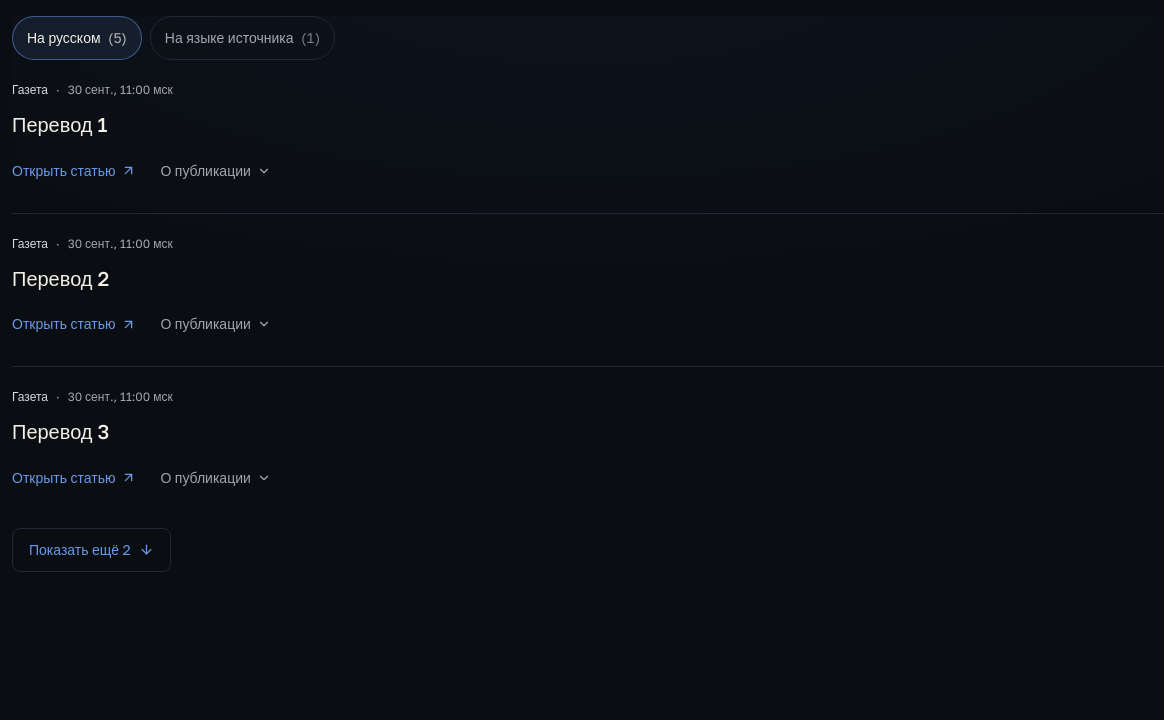
it: NewsReadingList › starts with Russian titles, switches language, and reveals remaining articles
Expected: the heading "Перевод 1" is shown, [12,112,107,136]
Expected: the text "Перевод 4" is not shown
Click the button "Показать ещё 2": (91, 550) [12,528,171,572]
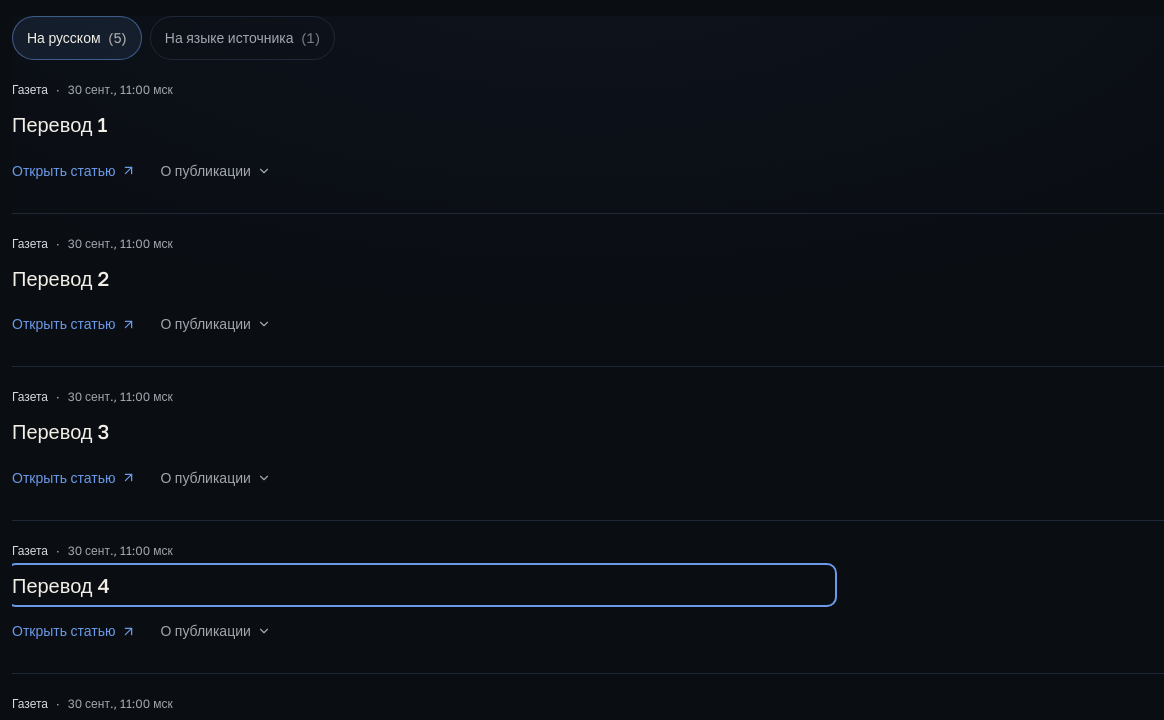
Expected: the button "Показать ещё" is gone
Click the button "На языке источника (1)": (243, 38) [150,16,335,60]
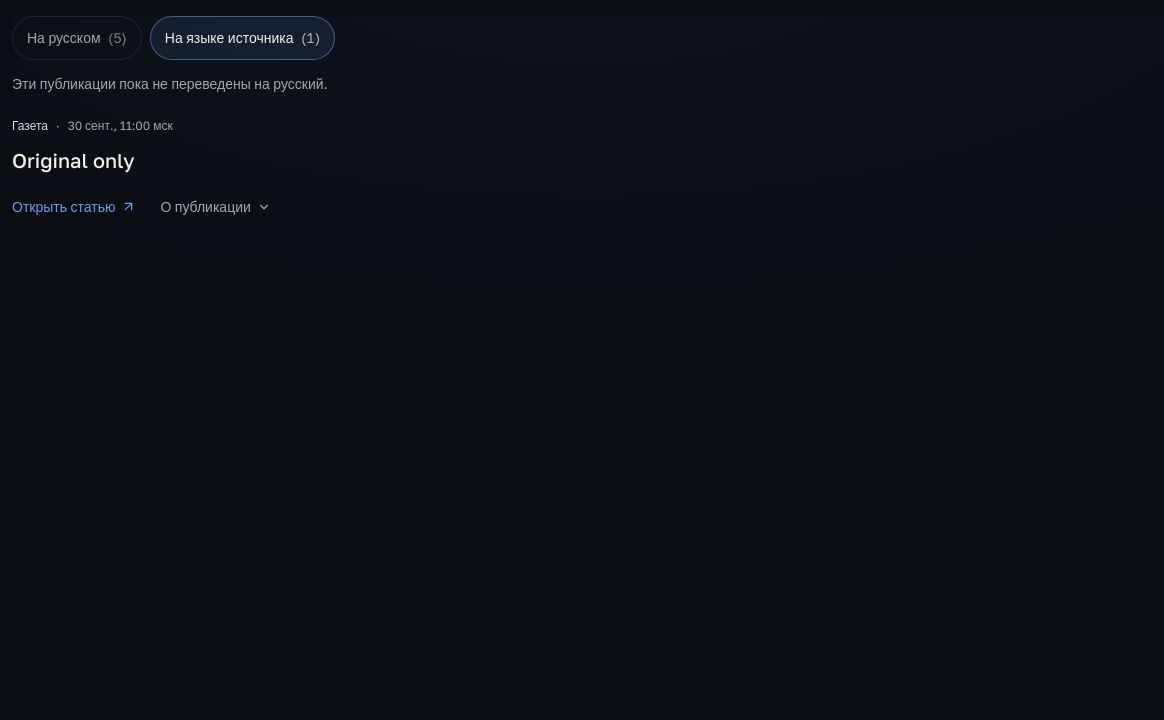
Expected: the heading "Original only" is shown, [12,148,135,172]
Expected: the heading "Перевод 1" is gone
